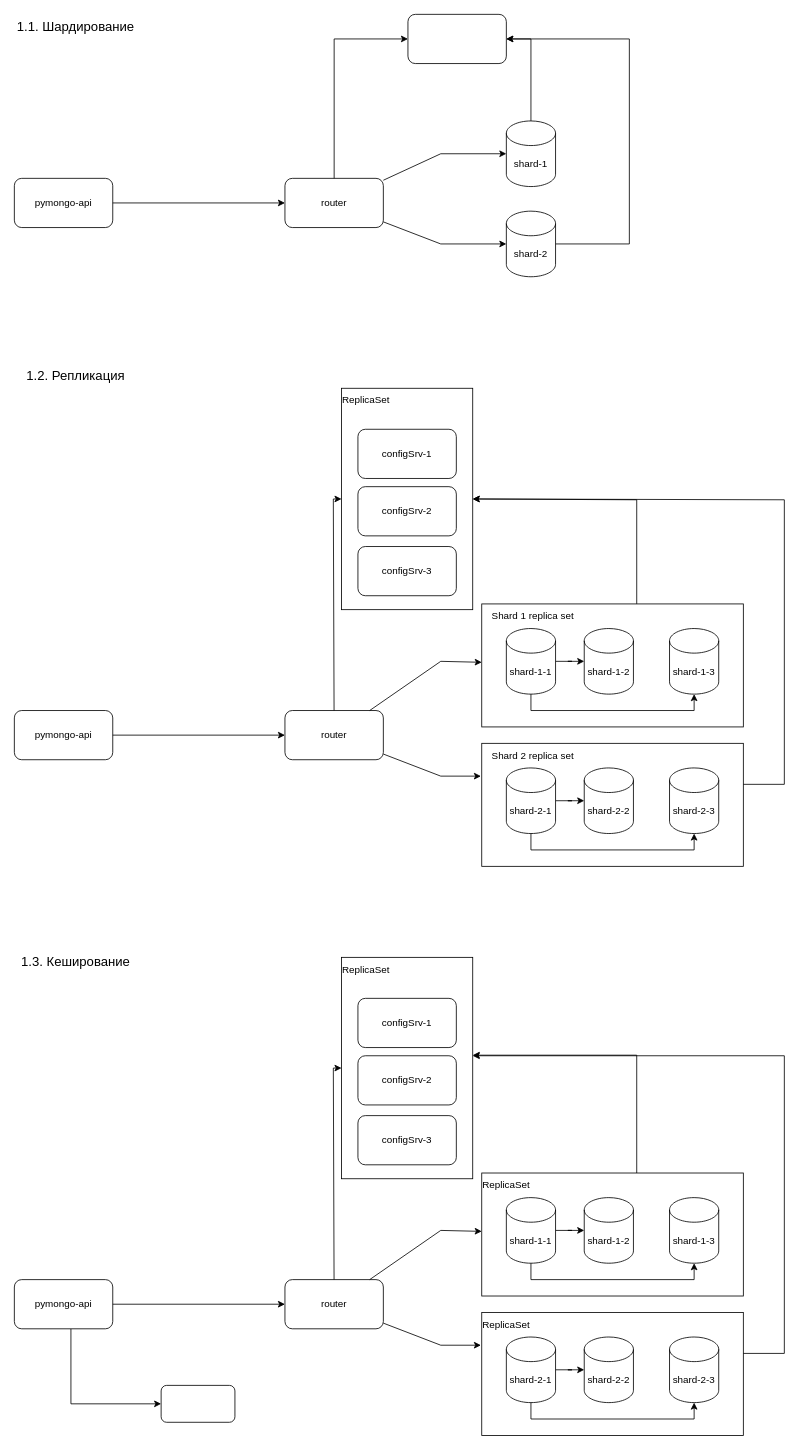
Image size: 805x1450. Some labels were removed from this diagram. Here are the shapes that lost their labels. From the top down, the centre of each, then its label:
point 456,39: configSrv
point 197,1403: redis
